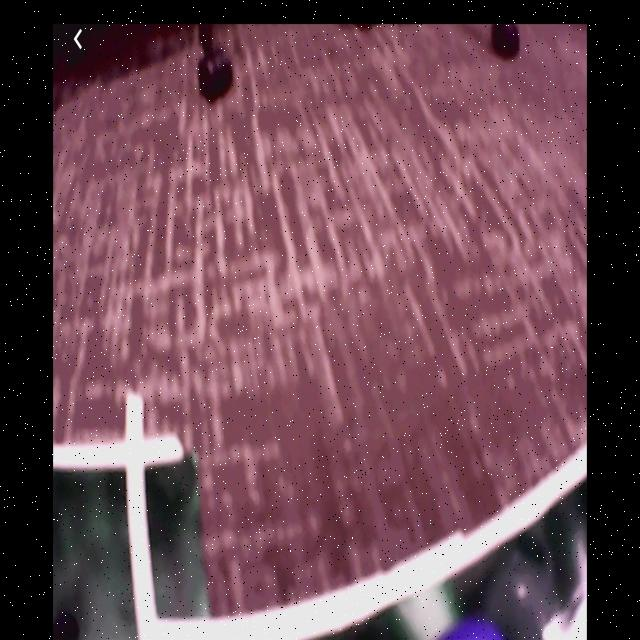ball: (439, 622, 509, 640)
